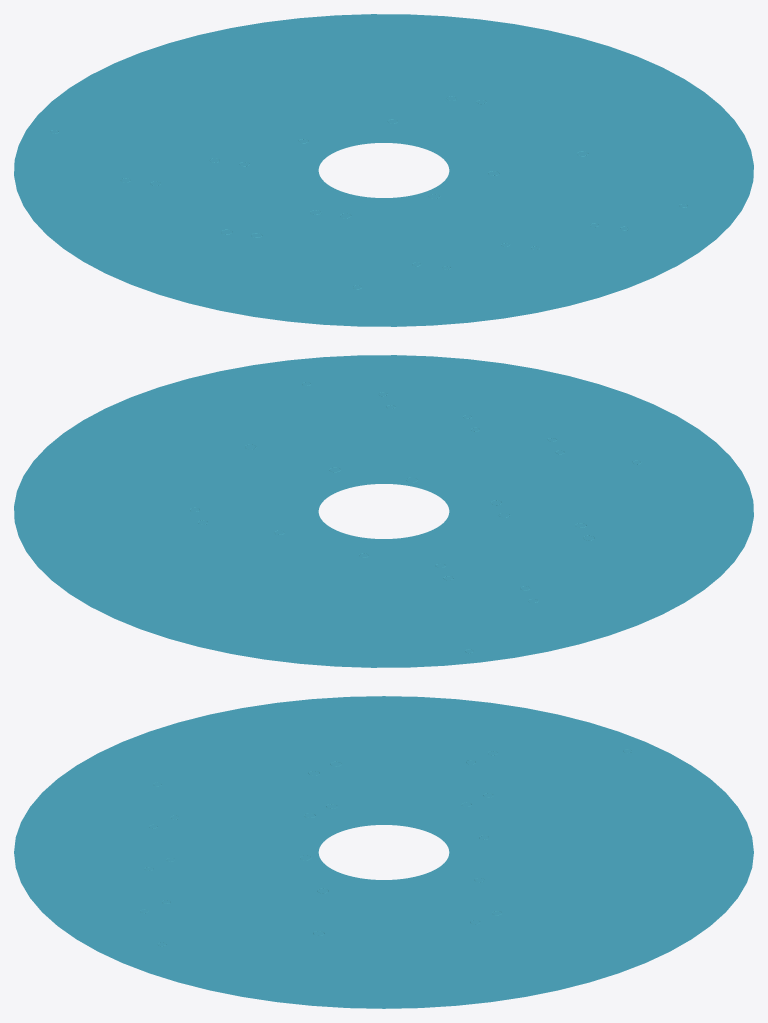
File: oceano.glb
The picture shows the model from 3 angles, top to bottom: view 1: azimuth 30°, elevation 25°; view 2: azimuth 150°, elevation 25°; view 3: azimuth 270°, elevation 25°; orthographic projection.
Visible parts, largest first — view 1: oceano; view 2: oceano; view 3: oceano.
Boxes of the visible parts, bbox=[...] form: oceano: bbox=[14, 14, 753, 326]; oceano: bbox=[14, 355, 753, 667]; oceano: bbox=[14, 696, 753, 1008].
Bounding box in the file's own units: 170 × 0.05 × 170.
